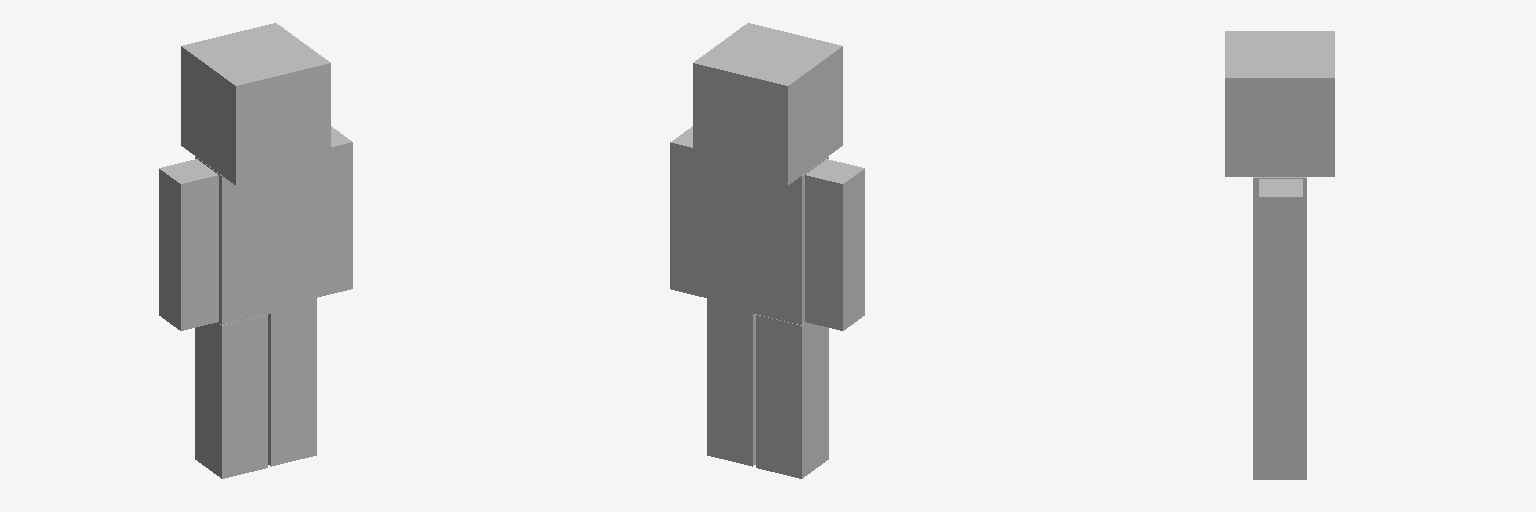
The model's file is JettCompleta.obj.
3 renders of one model, left to right at view 1: azimuth 30°, elevation 25°; view 2: azimuth 150°, elevation 25°; view 3: azimuth 270°, elevation 25°, orthographic.
Visible parts, largest first — view 1: cabeza, dorso, pie derecho, brazo derecho, pie izquierdo, brazo izquierdo; view 2: cabeza, dorso, pie derecho, brazo derecho, pie izquierdo, brazo izquierdo; view 3: cabeza, pie izquierdo, brazo izquierdo, dorso.
Boxes of the visible parts, <box> form: cabeza: <box>181,23,330,185</box>; dorso: <box>195,156,316,324</box>; pie derecho: <box>195,314,267,478</box>; brazo derecho: <box>159,159,218,330</box>; pie izquierdo: <box>268,302,316,466</box>; brazo izquierdo: <box>317,126,352,297</box>; cabeza: <box>693,23,842,185</box>; dorso: <box>707,156,828,324</box>; pie derecho: <box>756,314,828,478</box>; brazo derecho: <box>805,159,864,330</box>; pie izquierdo: <box>707,302,755,466</box>; brazo izquierdo: <box>670,126,706,297</box>; cabeza: <box>1225,31,1334,176</box>; pie izquierdo: <box>1253,327,1306,479</box>; brazo izquierdo: <box>1259,179,1302,343</box>; dorso: <box>1253,177,1306,326</box>.
Bounding box in the file's own units: 0.9066 × 2.02 × 0.5.